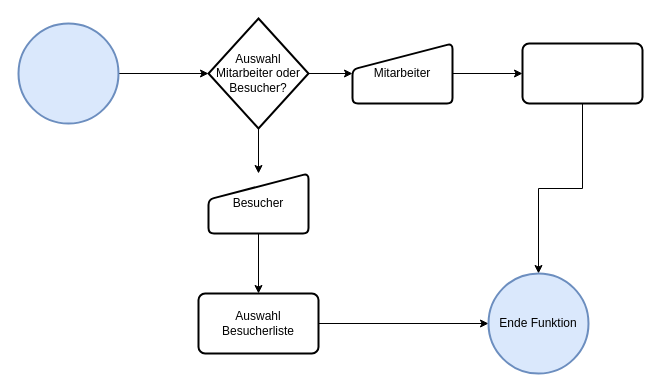
Image size: 660x391. Some labels were removed from this diagram. The centre of each missing label's shape, as x and y in pixels:
Auswahl Mitarbeiterliste: the point at 582,73
Start Funktion: the point at 68,73
